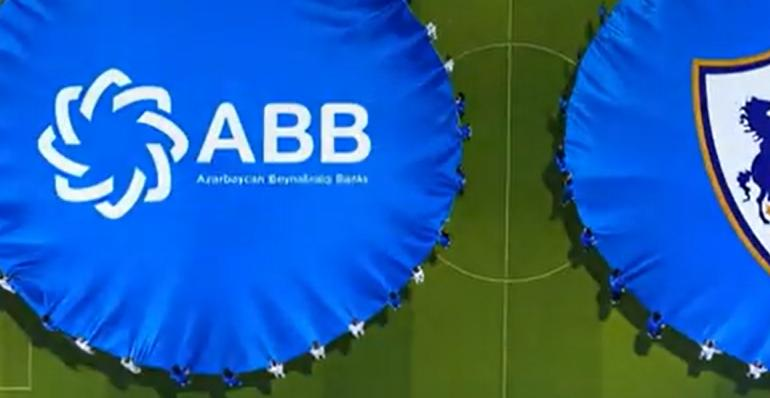ABB: (33, 64, 191, 222)
